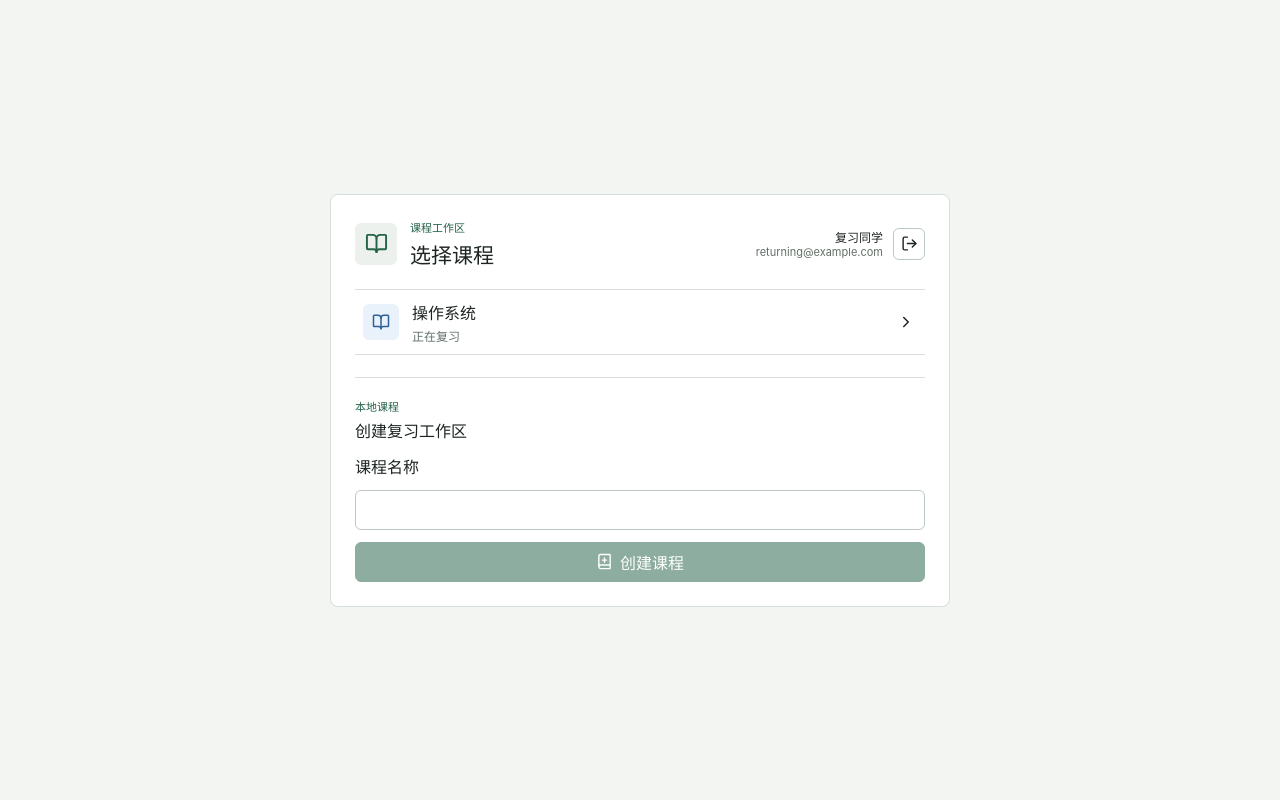
Test case: App › restores an existing course for a returning user without relying on shared local storage
Check: the heading "选择课程" is shown, box [410,238,494,268]
Click the button "操作系统 正在复习" at coordinates (381, 322), box [355,290,925,354]
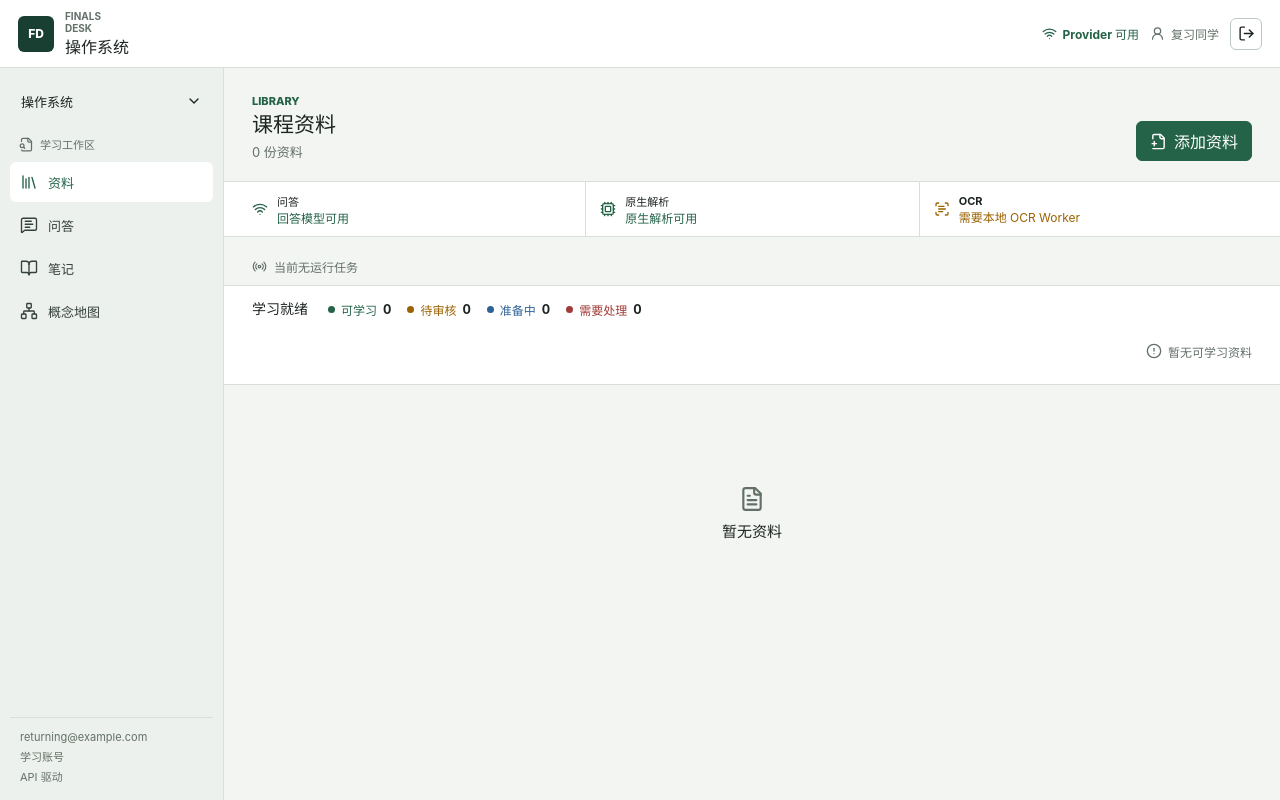
Check: the heading "操作系统" is shown, box [65,34,129,58]
